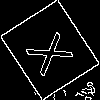X: (25, 24, 83, 78)
